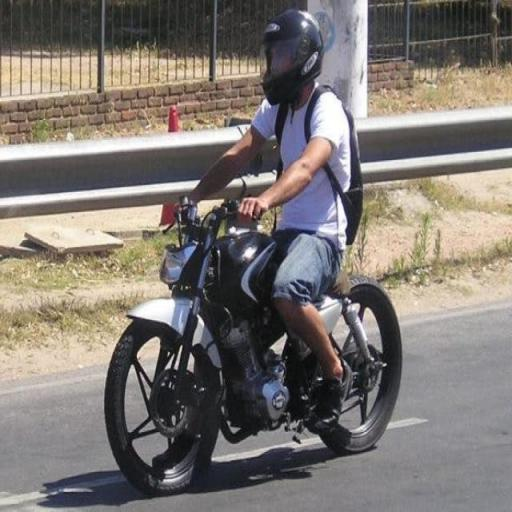Helmet: (261, 9, 323, 104)
Motor: (102, 225, 420, 495)
